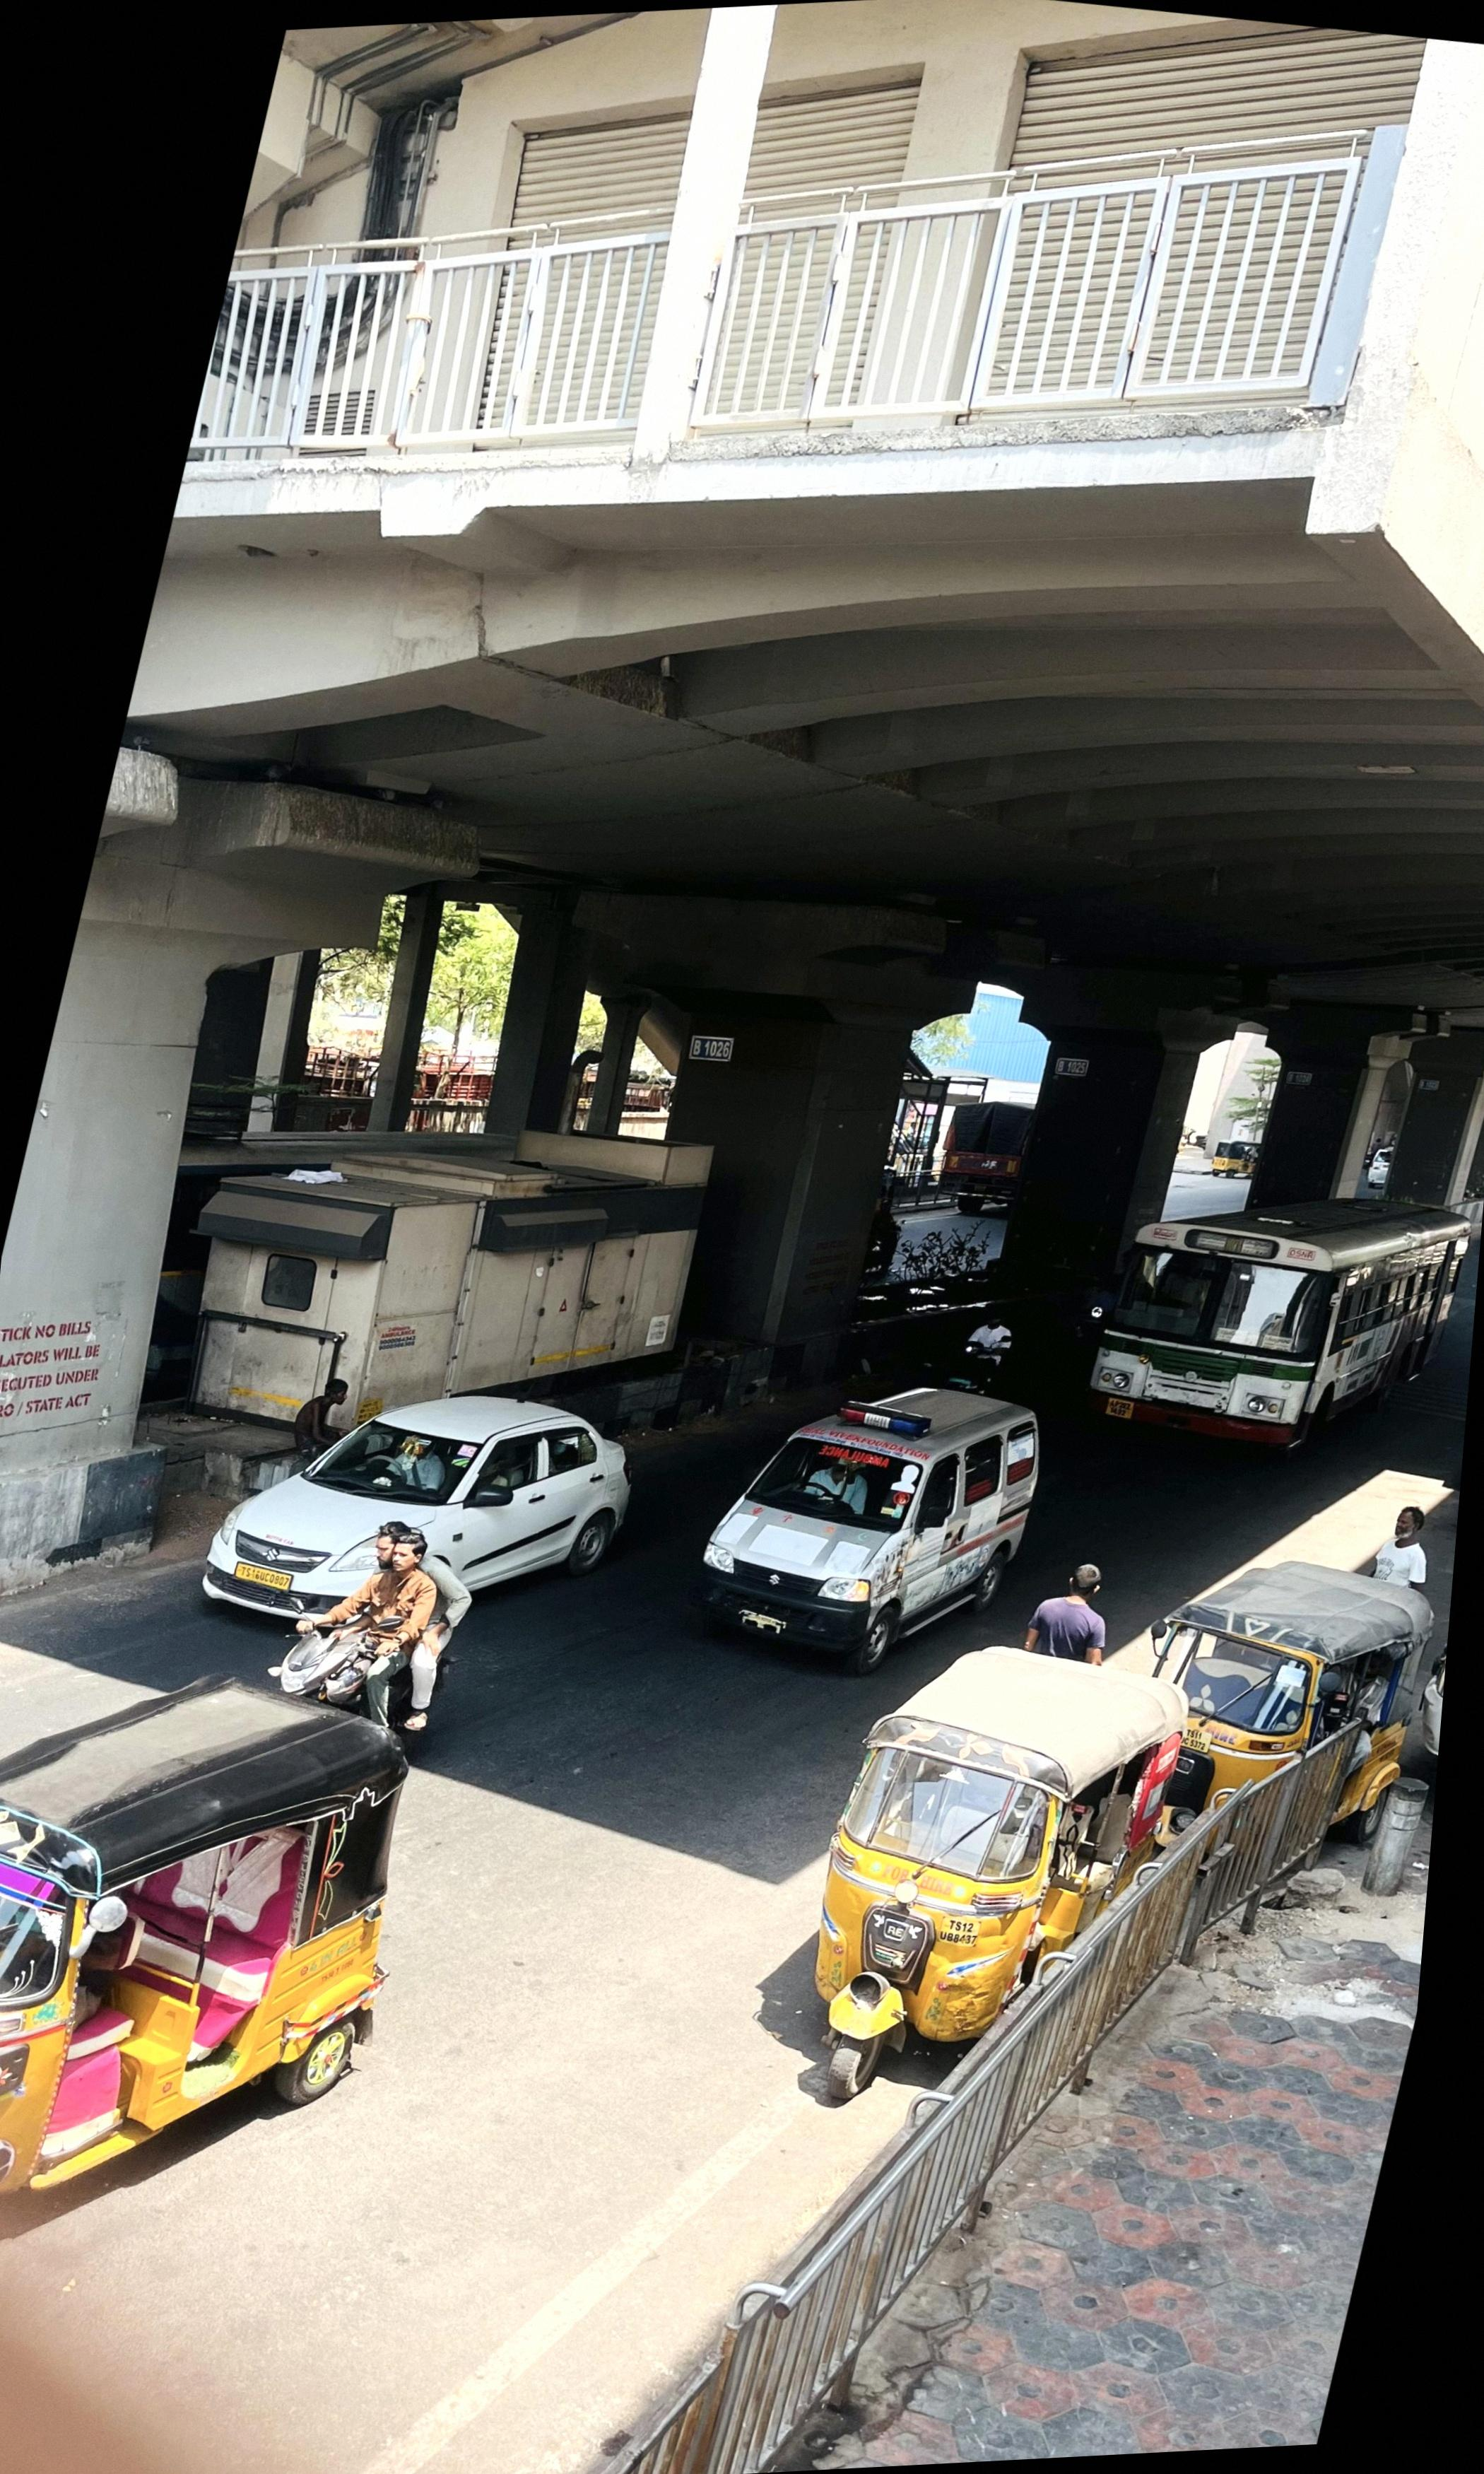ambulance: (696, 1387, 1042, 1673)
